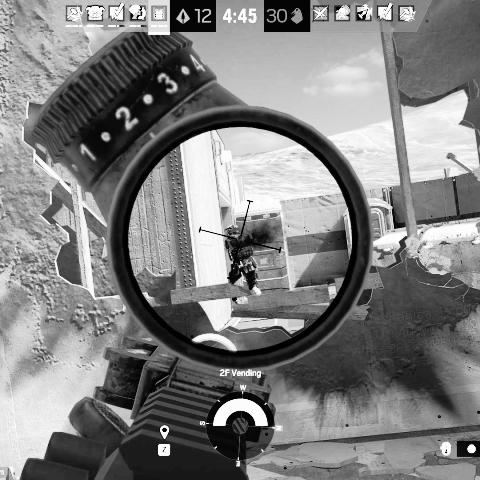Character: (221, 223, 262, 302)
Head: (224, 223, 239, 238)
